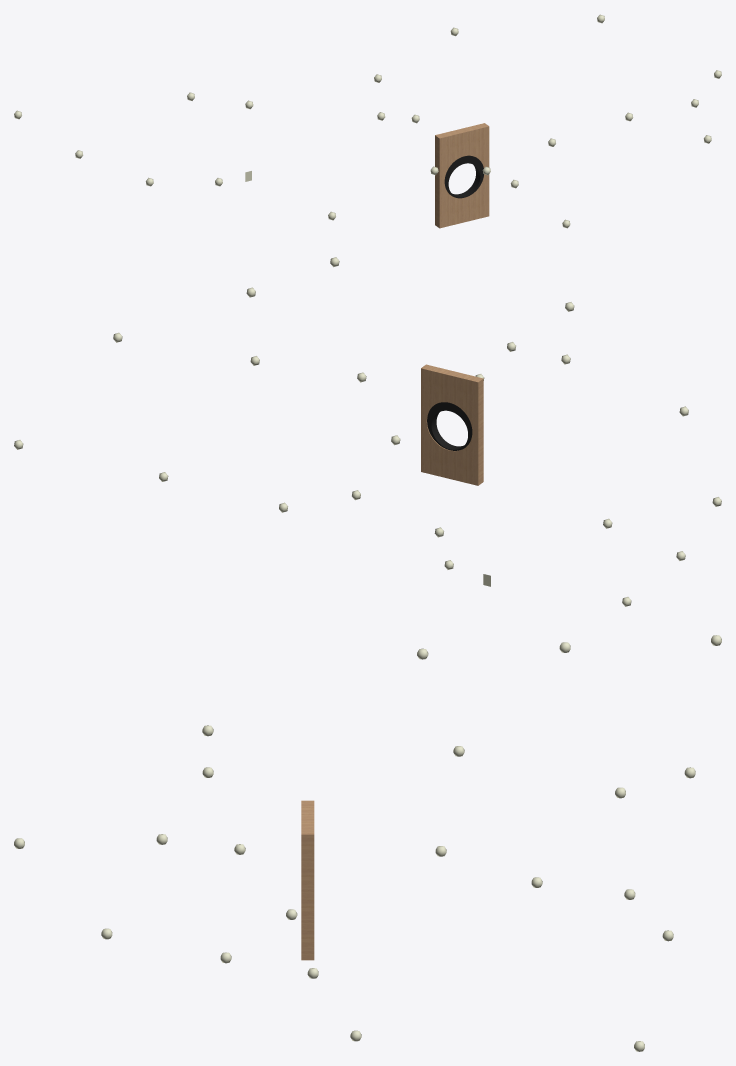
The picture shows the model from 3 angles, top to bottom: view 1: azimuth 30°, elevation 25°; view 2: azimuth 150°, elevation 25°; view 3: azimuth 270°, elevation 25°; orthographic projection. The views are drawn at different scales.
Visible parts, largest first — view 1: Group005; view 2: Group005; view 3: Group005.
Boxes of the visible parts, x1,y1,x2,y2 form: Group005: (435, 123, 489, 228); Group005: (421, 364, 483, 485); Group005: (301, 800, 314, 960).
Bounding box in the file's own units: 861 × 135 × 654.
